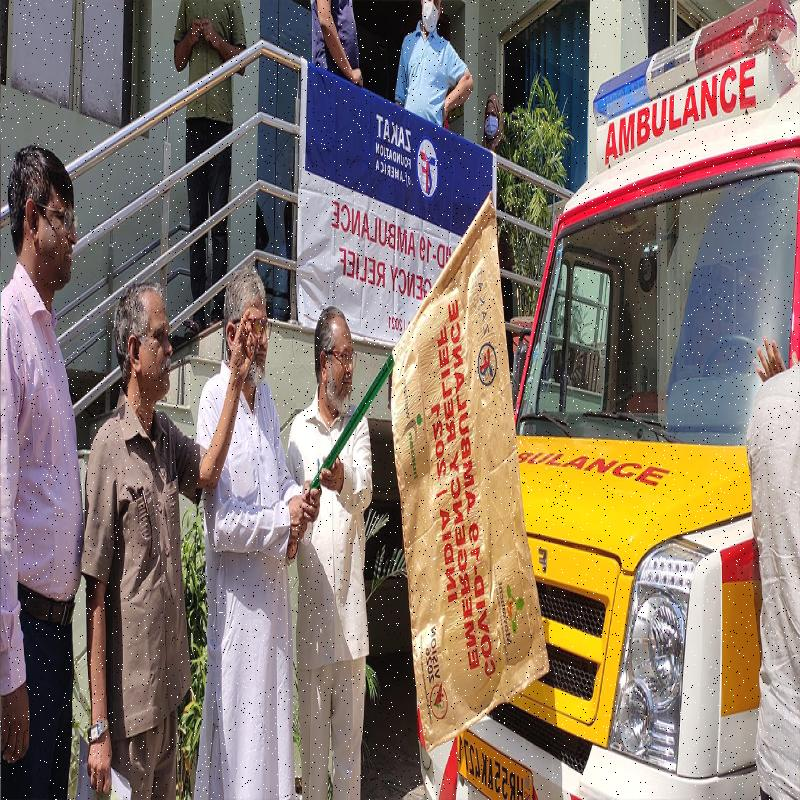ambulance: (441, 0, 800, 800)
